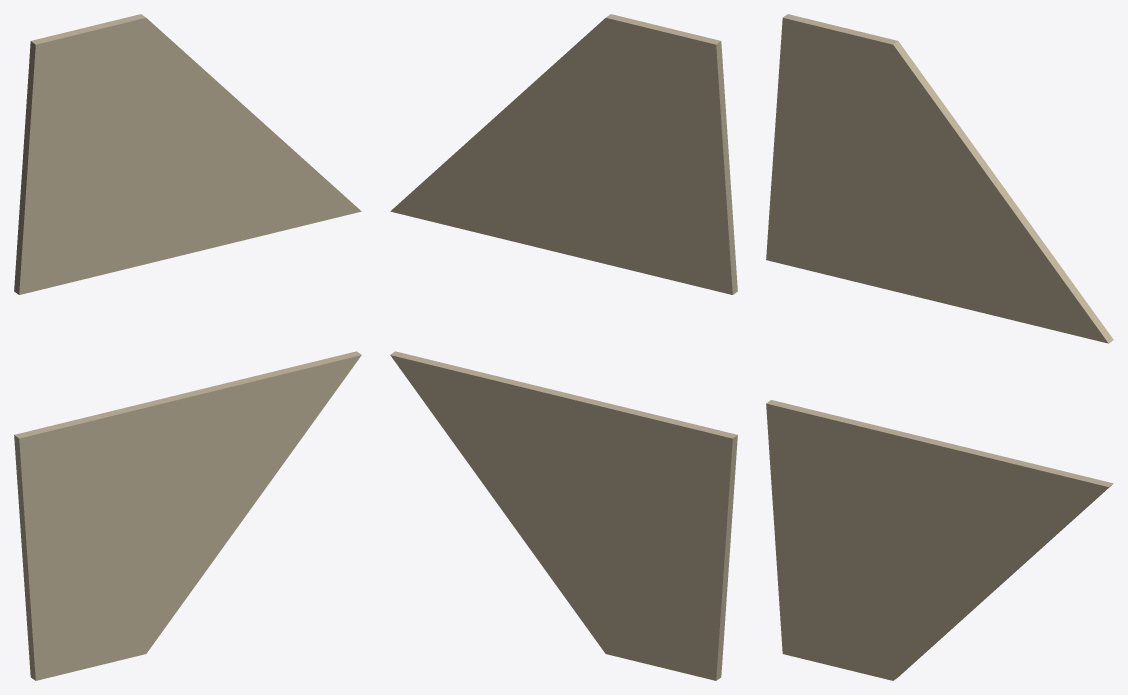
Rendered from f16_stab_sand.glb.
3 views of the same model, side by side, from view 1: azimuth 30°, elevation 25°; view 2: azimuth 150°, elevation 25°; view 3: azimuth 330°, elevation 25° (orthographic).
Parts seen in each view (by area): view 1: stab1, stab0; view 2: stab1, stab0; view 3: stab0, stab1.
Boxes of the visible parts, x1,y1,x2,y2 form: stab1: (14, 351, 361, 680); stab0: (14, 14, 361, 294); stab1: (390, 351, 737, 680); stab0: (390, 14, 737, 294); stab0: (766, 14, 1113, 343); stab1: (766, 400, 1113, 680).
Size of the model in its own units: 3.1 by 5.5 by 0.08.
